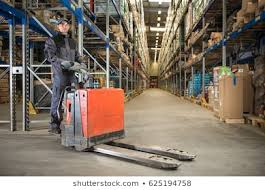Pallet Jack: (57, 58, 197, 171)
